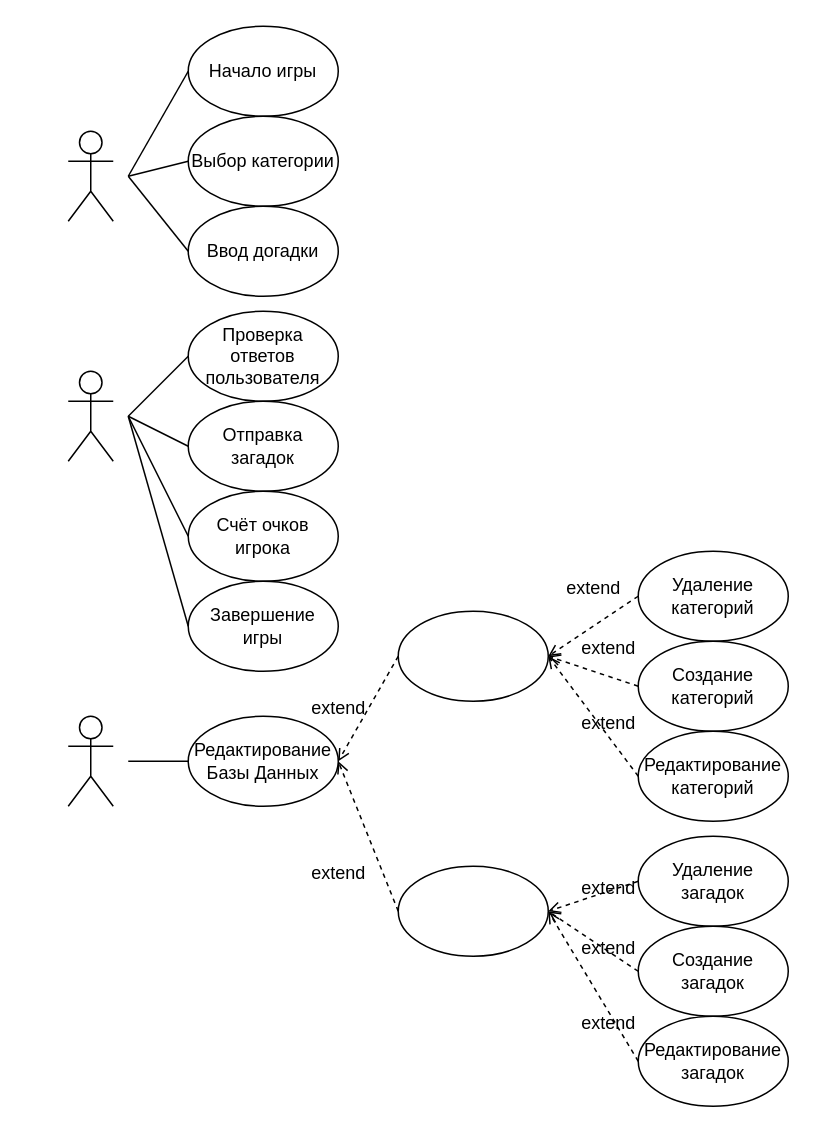
Some shapes in this 815 by 1133 pixel diagram are drawn without their labels. Here are the shapes that lost their labels. From the top down, the box of each, then its label:
(67, 130, 113, 221): Пользователь
(67, 370, 113, 461): Бот
(397, 610, 548, 701): Работа с категориями
(67, 715, 113, 806): Администратор
(397, 865, 548, 956): Работа с загадками
